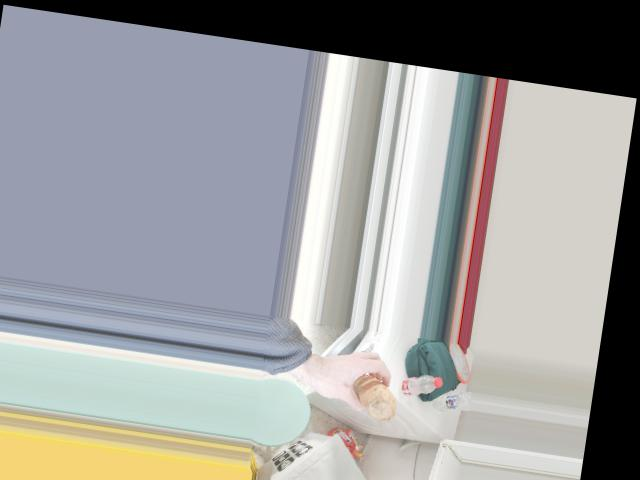sweet_potato: (346, 372, 398, 420)
